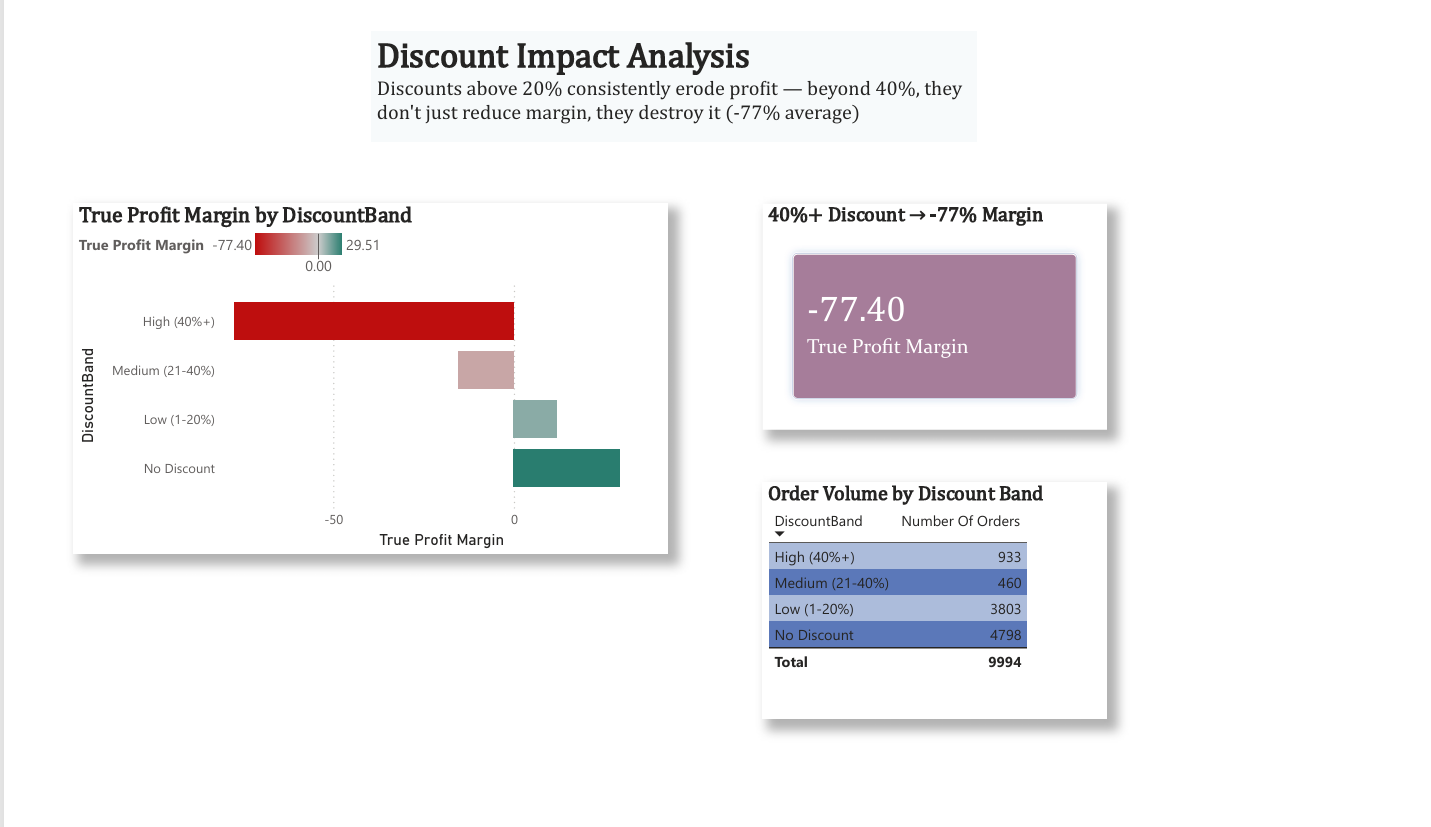

The page's visual inventory and layout, read from the dashboard file:
{"tool":"powerbi","page":{"name":"Discount Impact Analysis","canvas":[1280,720],"ordinal":3},"visuals":[{"type":"clusteredBarChart","fields":{"Category":["shopify_project superstore.DiscountBand"],"Y":["shopify_project superstore.True Profit Margin"]},"box":[40,167,549,324],"z":0},{"type":"cardVisual","title":"40%+ Discount → -77% Margin","fields":{"Data":["shopify_project superstore.True Profit Margin"]},"box":[676,167,318,209],"z":1000},{"type":"textbox","box":[315,8,559,102],"z":2000},{"type":"tableEx","title":"Order Volume by Discount Band","fields":{"Values":["shopify_project superstore.DiscountBand","shopify_project superstore.OrderID"]},"box":[676,425,318,219],"z":2001}]}

Visuals, with their boxes in screenshot pixels (x1, y1, x2, y2), scaled from the page's 1280x720 canvas onto the 1431x827 screenshot:
clusteredBarChart - shopify_project superstore.DiscountBand x shopify_project superstore.True Profit Margin: pyautogui.locateOnScreen(45, 192, 658, 564)
"40%+ Discount → -77% Margin" cardVisual: pyautogui.locateOnScreen(756, 192, 1111, 432)
textbox: pyautogui.locateOnScreen(352, 9, 977, 126)
"Order Volume by Discount Band" tableEx: pyautogui.locateOnScreen(756, 488, 1111, 740)
